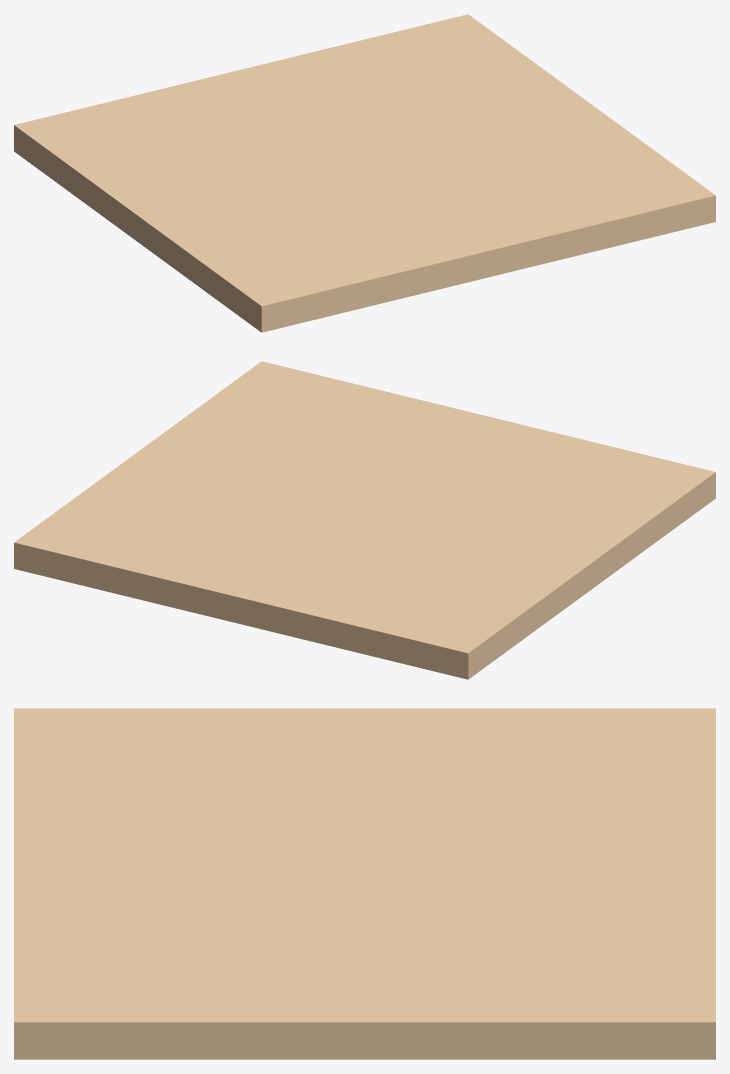
The model's file is Sand.gltf.
3 views of the same model, one above another, from view 1: azimuth 30°, elevation 25°; view 2: azimuth 150°, elevation 25°; view 3: azimuth 270°, elevation 25° (orthographic). The views are drawn at different scales.
Visible parts, largest first — view 1: Layer.1; view 2: Layer.1; view 3: Layer.1.
Boxes of the visible parts, x1=… form: Layer.1: x1=14, y1=14, x2=715, y2=332; Layer.1: x1=14, y1=361, x2=715, y2=679; Layer.1: x1=14, y1=708, x2=715, y2=1059.
Bounding box in the file's own units: 18 × 1 × 17.
Materials: 1 (1 with a texture image).
